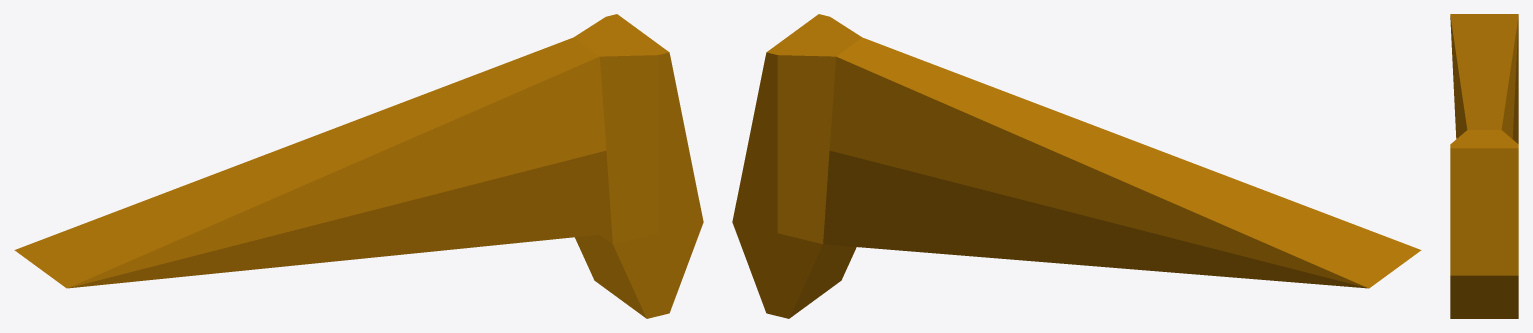
File: rifle.glb
3 renders of one model, left to right at view 1: azimuth 30°, elevation 25°; view 2: azimuth 150°, elevation 25°; view 3: azimuth 270°, elevation 25°, orthographic. The views are drawn at different scales.
Visible parts, largest first — view 1: Cube; view 2: Cube; view 3: Cube.
Part boxes in pixels (<box>): Cube: <box>14,14,703,318</box>; Cube: <box>732,14,1421,318</box>; Cube: <box>1450,14,1518,318</box>.
Size of the model in its own units: 2.81 by 1.1 by 0.4.
